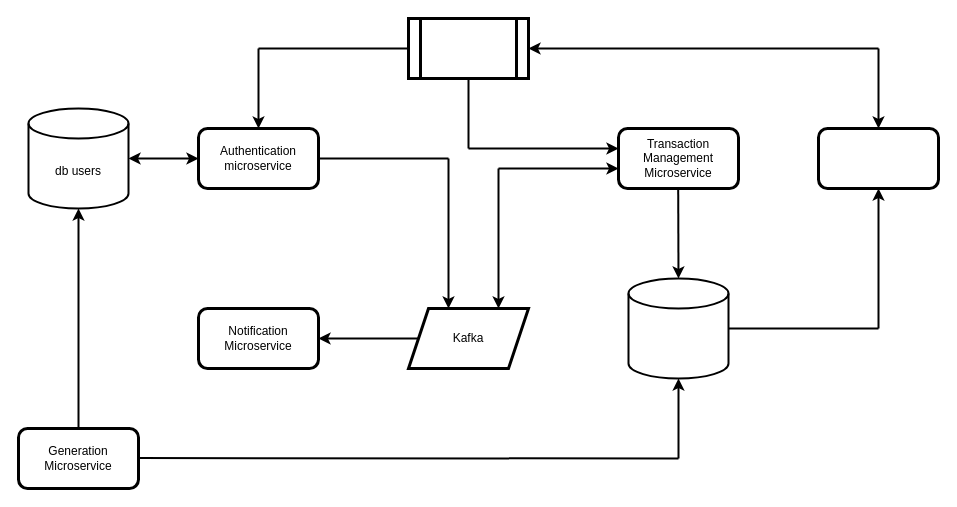
Some shapes in this 957 by 507 pixel diagram are drawn without their labels. The box of each missing label's shape, as (x1, y1, x2, y2) in pixels:
db transactions: (627, 277, 729, 379)
Postman: (406, 16, 530, 80)
Statistics microservice: (816, 126, 940, 190)
